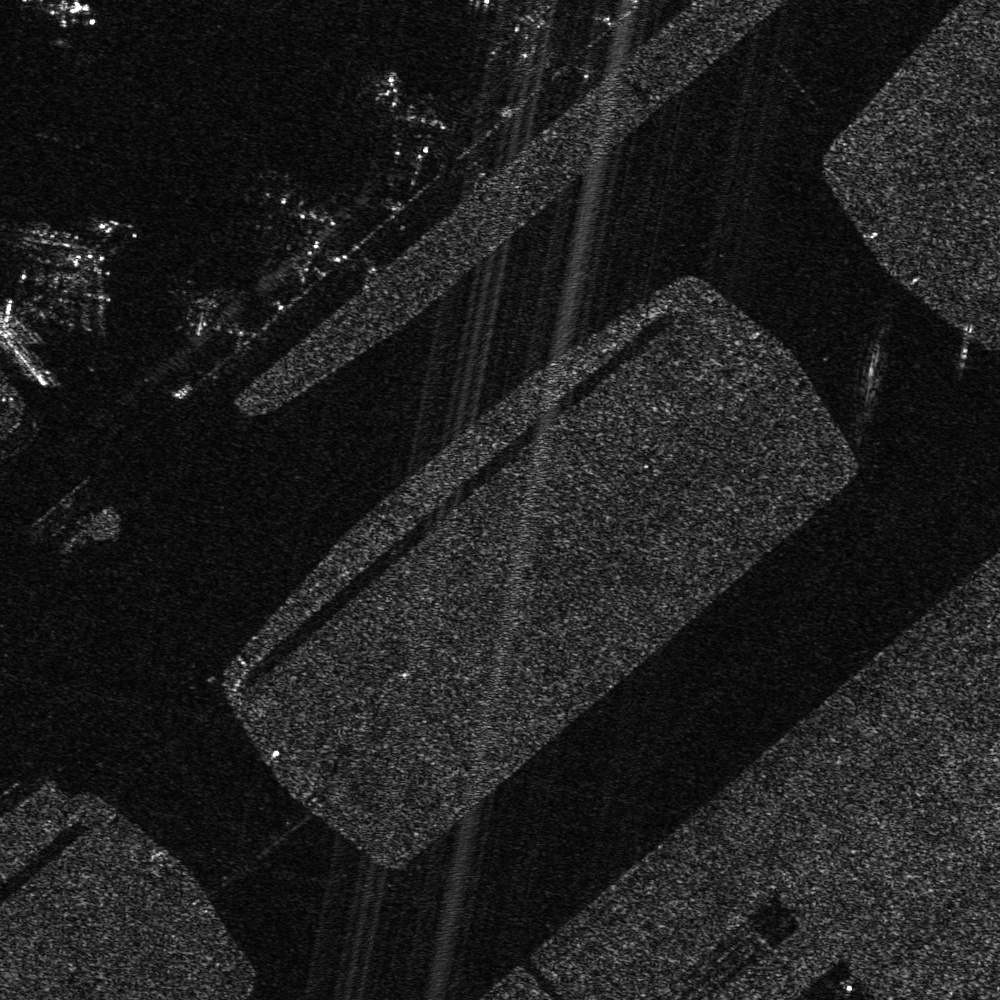Boeing787: (364, 66, 445, 149)
other: (5, 217, 145, 330)
